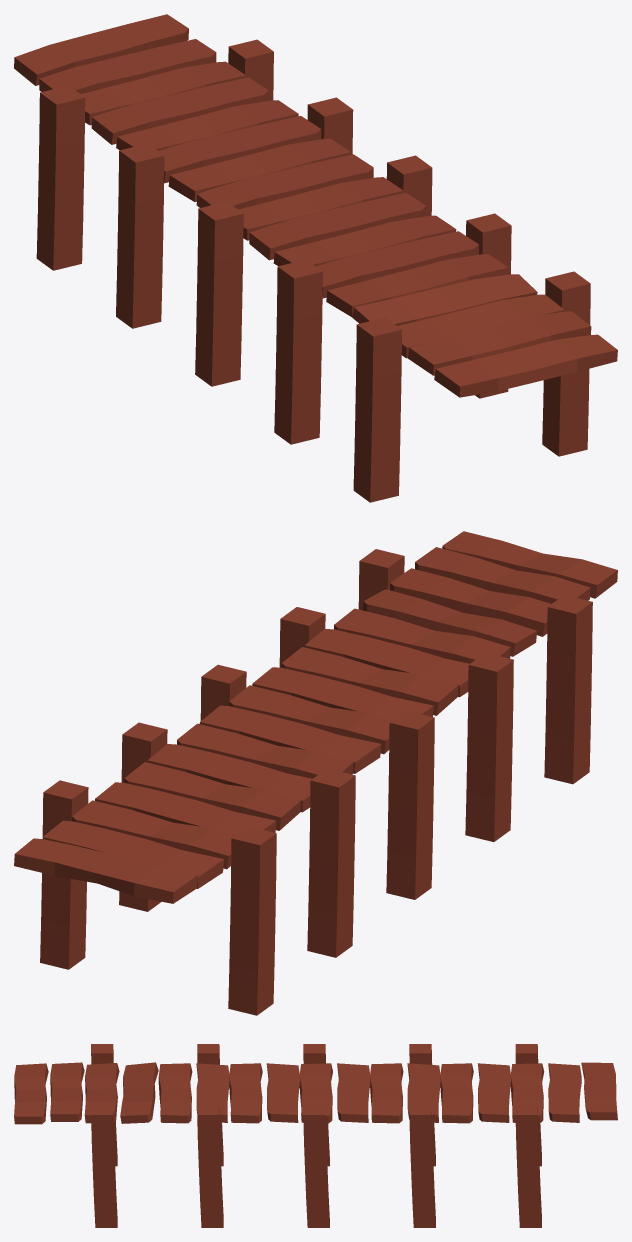
The model's file is woodbrige_1a.fbx.
The picture shows the model from 3 angles, top to bottom: view 1: azimuth 30°, elevation 25°; view 2: azimuth 150°, elevation 25°; view 3: azimuth 270°, elevation 25°; orthographic projection. The views are drawn at different scales.
Visible parts, largest first — view 1: woodbrige_1a; view 2: woodbrige_1a; view 3: woodbrige_1a.
Part boxes in pixels (box(x1,y1,x2,y2)): woodbrige_1a: box(14, 14, 617, 502); woodbrige_1a: box(14, 531, 617, 1015); woodbrige_1a: box(14, 1044, 617, 1227).
Size of the model in its own units: 280 by 207 by 1006.
